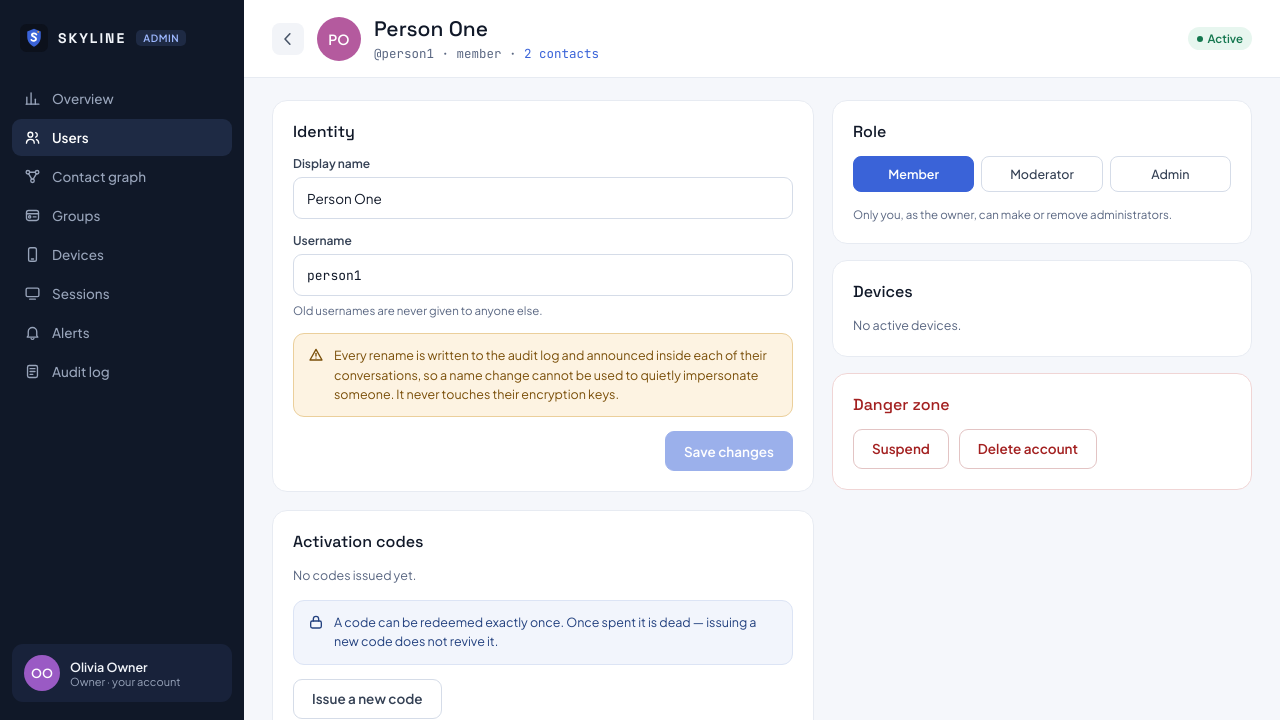
it: user detail › suspending asks first, then refreshes
This screenshot has width=1280, height=720.
Click the button "Suspend" at (901,449), box [853,429,949,469]
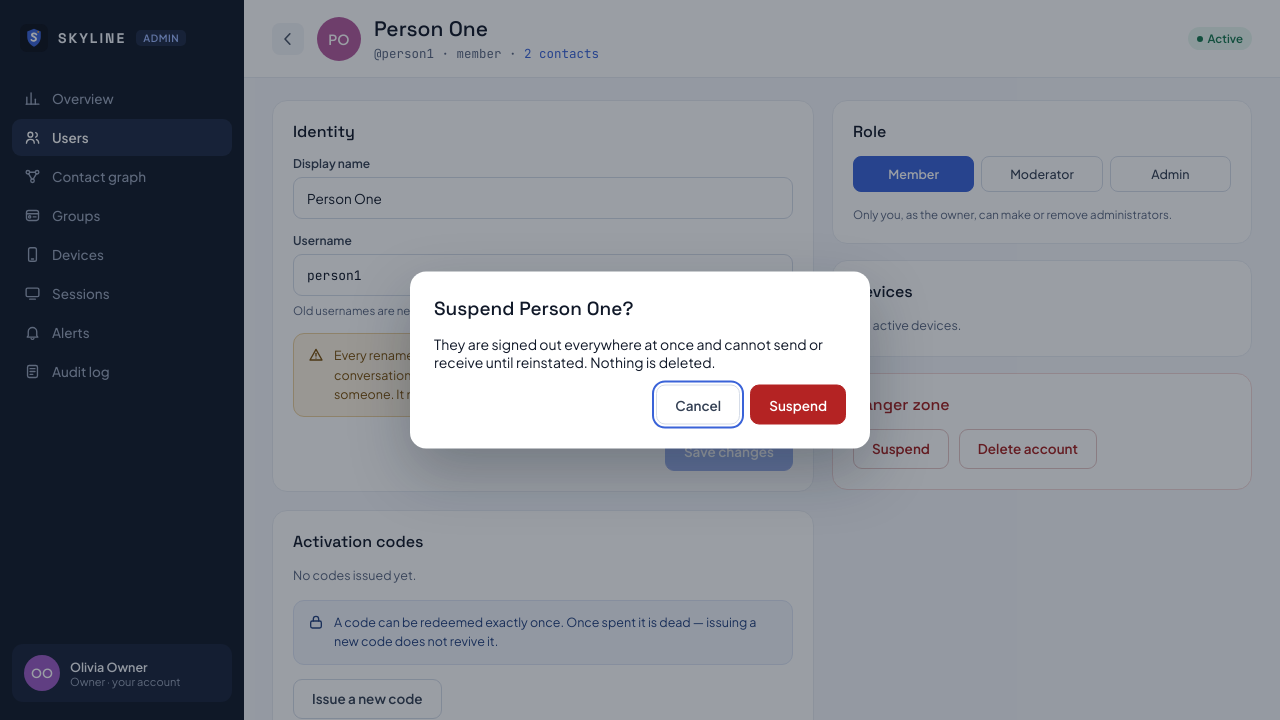
Click the button "Suspend" at (798,404), box [750,384,846,424]
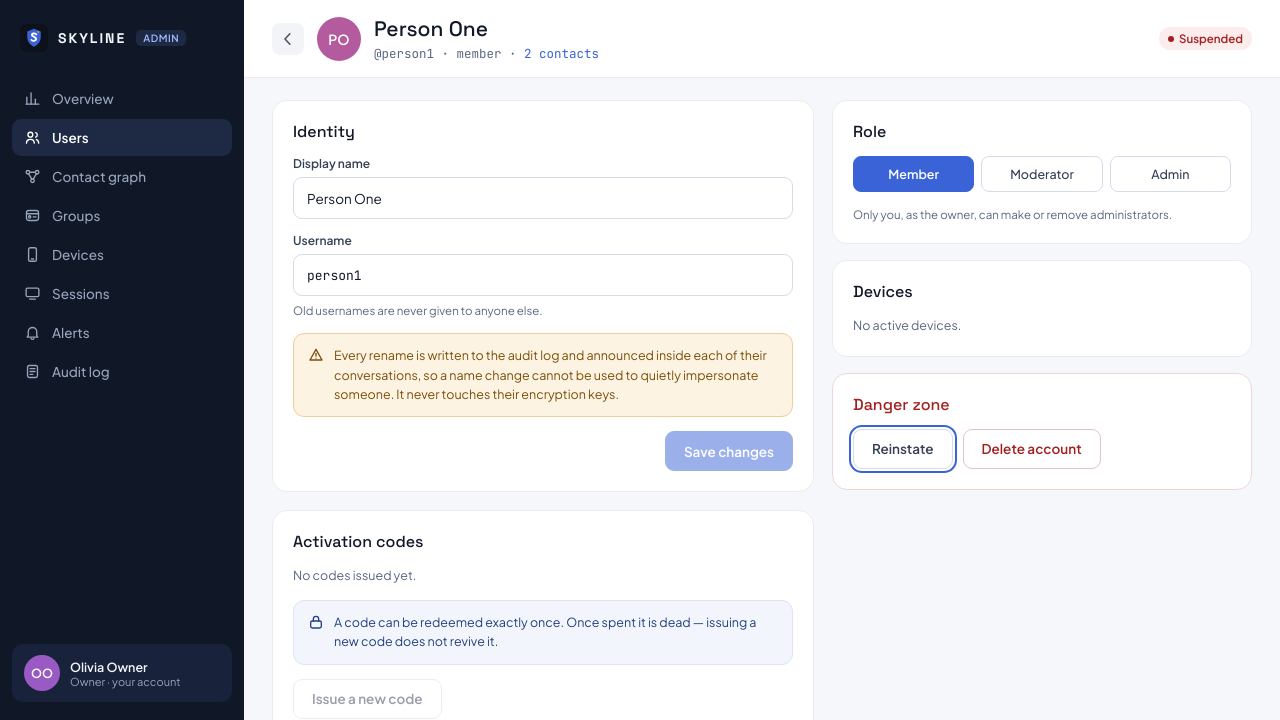
Now the button "Reinstate" is shown, box [853,429,952,469]
Now the dialog is gone
